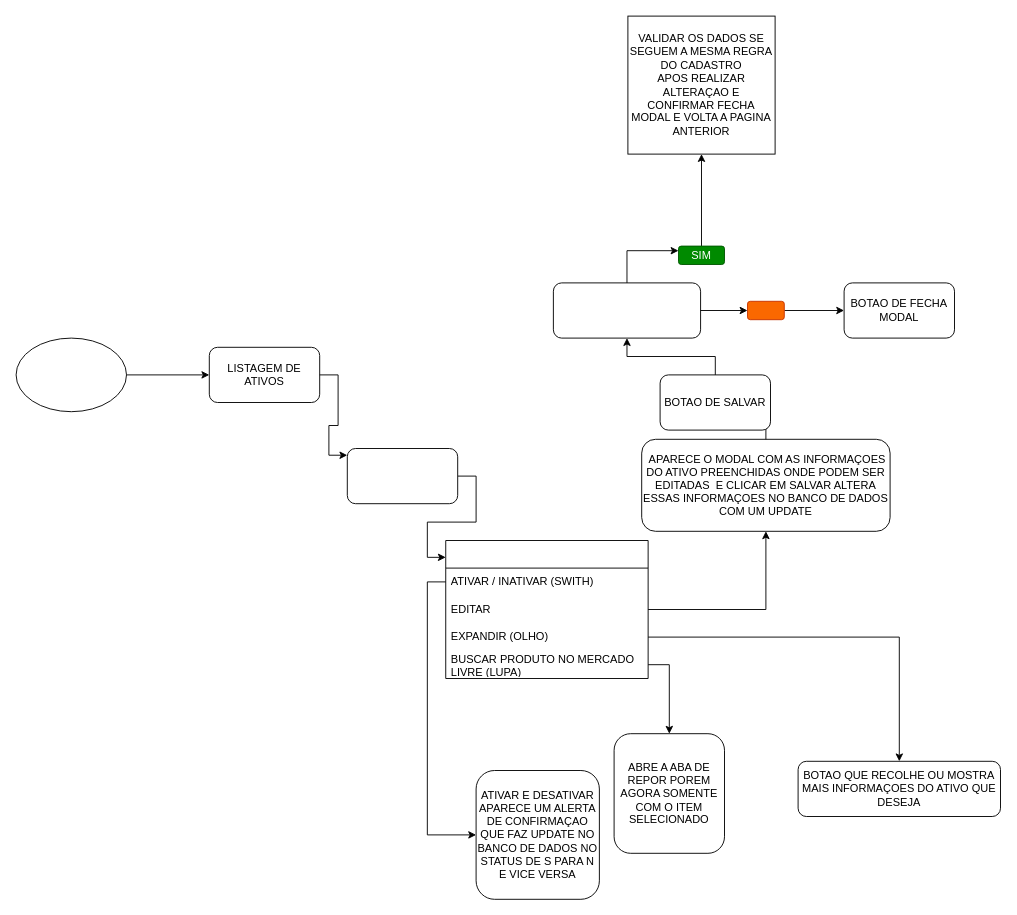
This 1017x915 diagram has some shape labels left out. The box of each missing label's shape, as (x1, y1, x2, y2) in pixels:
BOTÕES: (445, 540, 648, 678)
INICIO: (15, 337, 126, 412)
NAO: (747, 300, 784, 320)
ONDE POSSUE NA ABA DE AÇOES: (346, 448, 458, 504)
REALIZAR AÇAO?: (552, 282, 701, 338)
